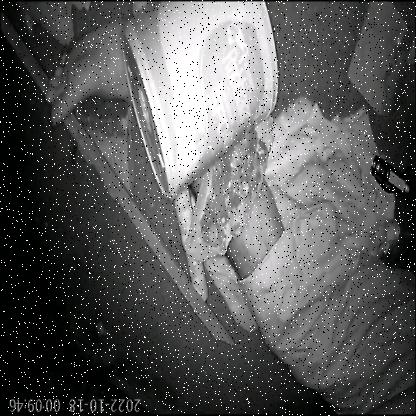leg: (46, 14, 349, 280)
